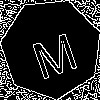M: (26, 23, 81, 80)
